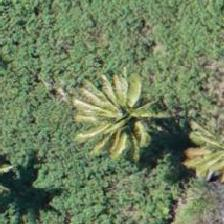coconut_tree: (78, 63, 168, 153)
